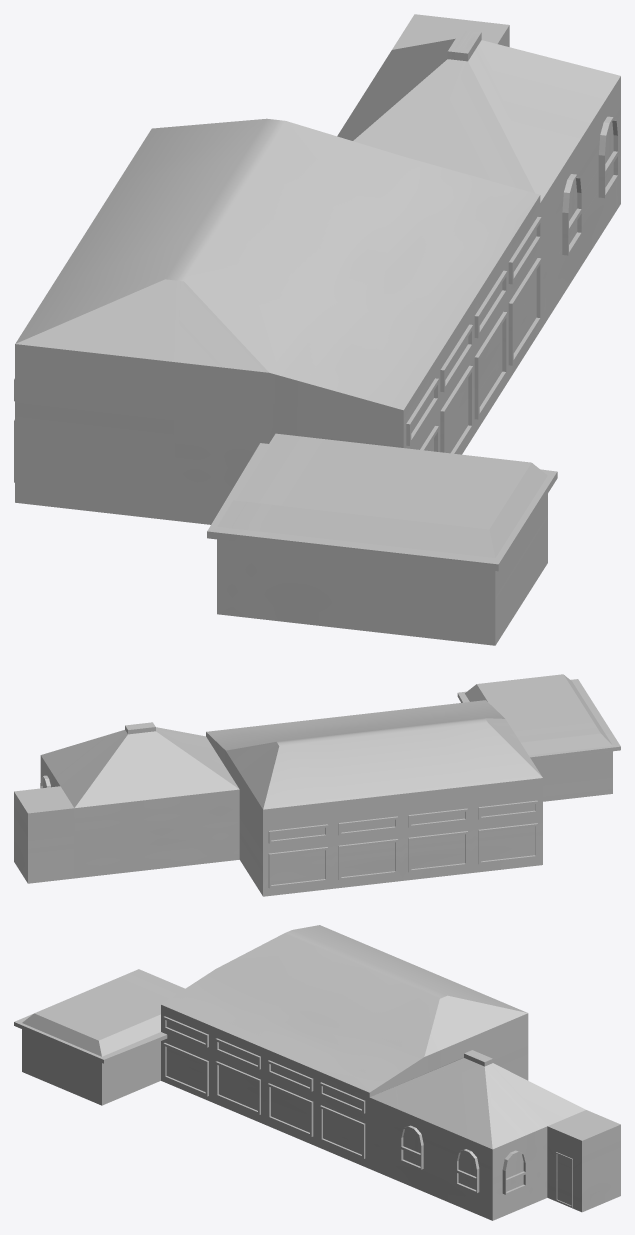
The model's file is Schmatic.FBX.
3 views of the same model, one above another, from view 1: azimuth 30°, elevation 25°; view 2: azimuth 150°, elevation 25°; view 3: azimuth 270°, elevation 25° (orthographic). The views are drawn at different scales.
Visible parts, largest first — view 1: Schmatic; view 2: Schmatic; view 3: Schmatic.
Boxes of the visible parts, bbox=[...] form: Schmatic: bbox=[14, 14, 620, 645]; Schmatic: bbox=[14, 674, 620, 896]; Schmatic: bbox=[14, 925, 620, 1220].
Bounding box in the file's own units: 2218 × 592 × 2744.
